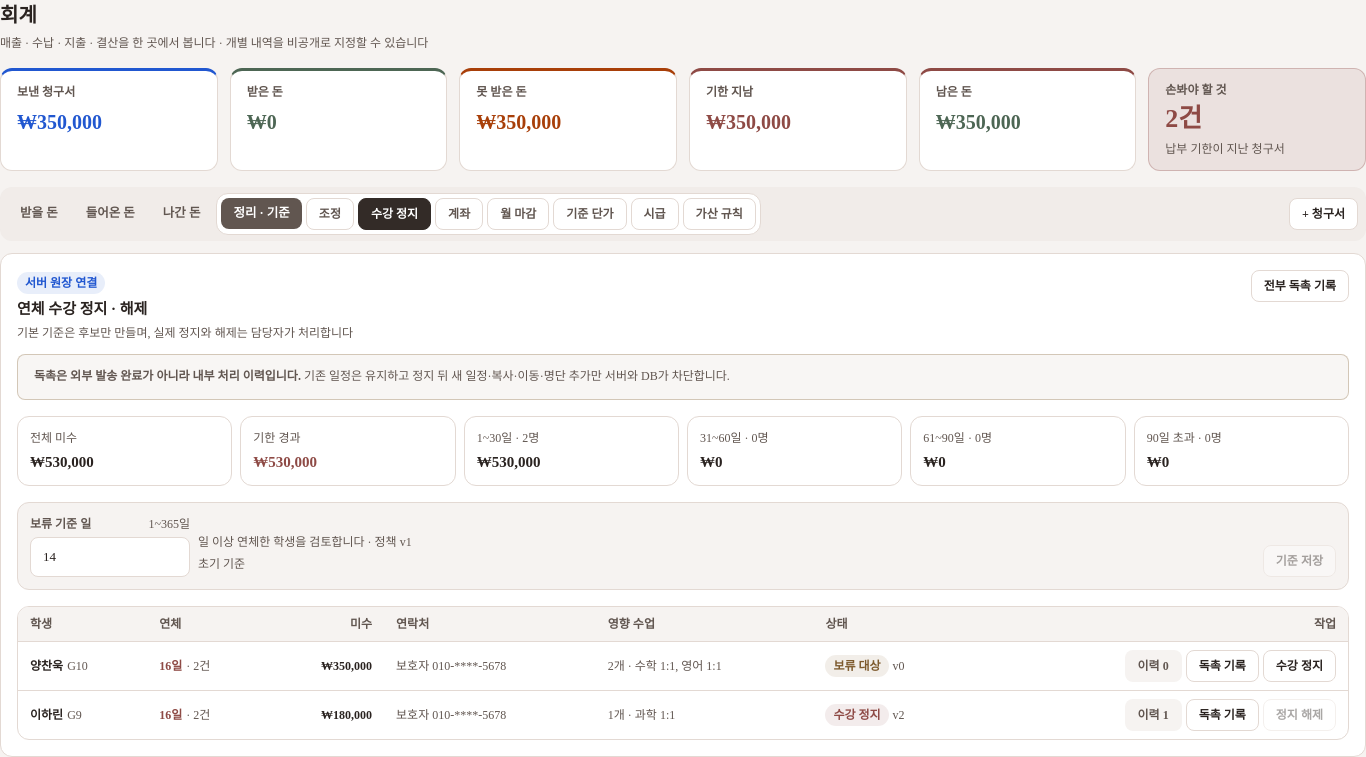
대표 기준 저장과 전부 독촉은 current version·멱등키를 사용하고 외부 발송 완료를 주장하지 않는다
Replace the text in the number field labelled "보류 기준 일" with "21" at (110, 557), box left=30, top=537, right=190, bottom=577
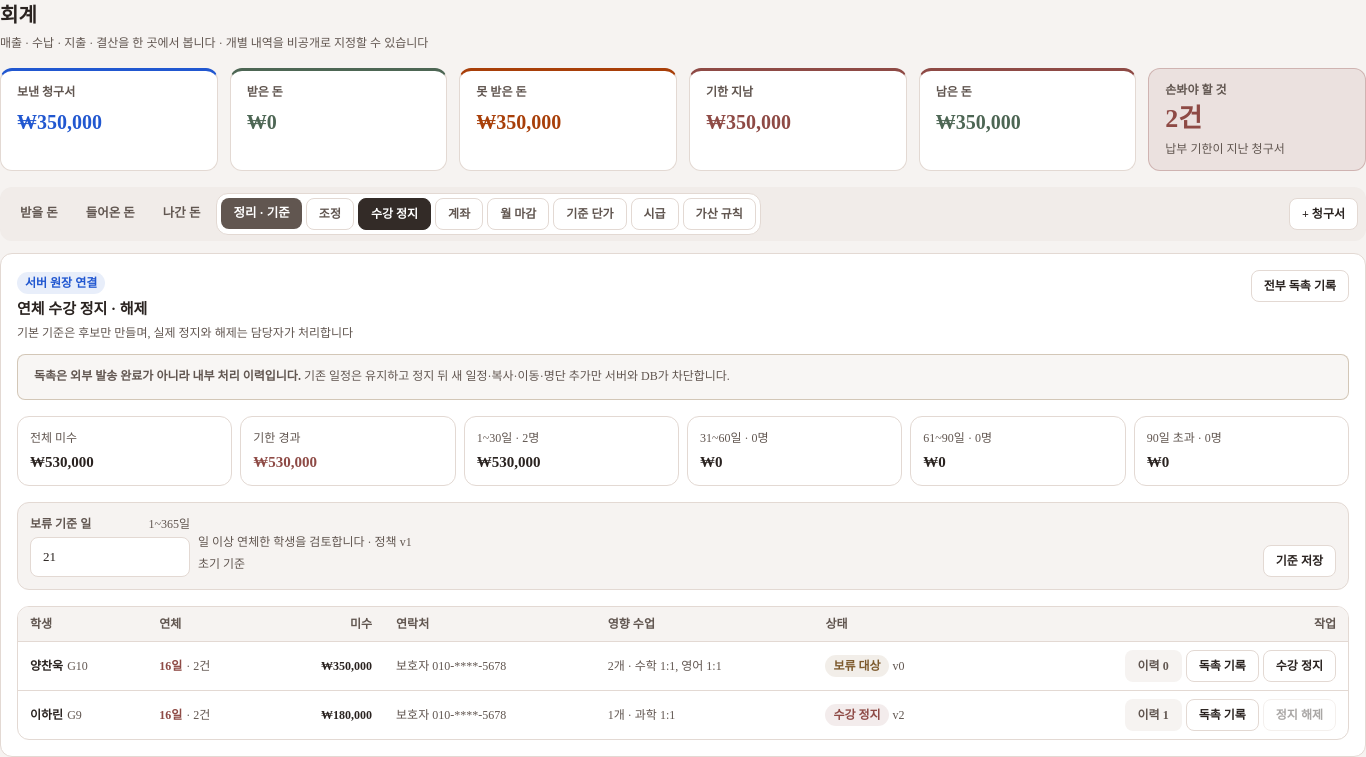
Click the button "기준 저장" at (1299, 561), box left=1263, top=545, right=1336, bottom=577
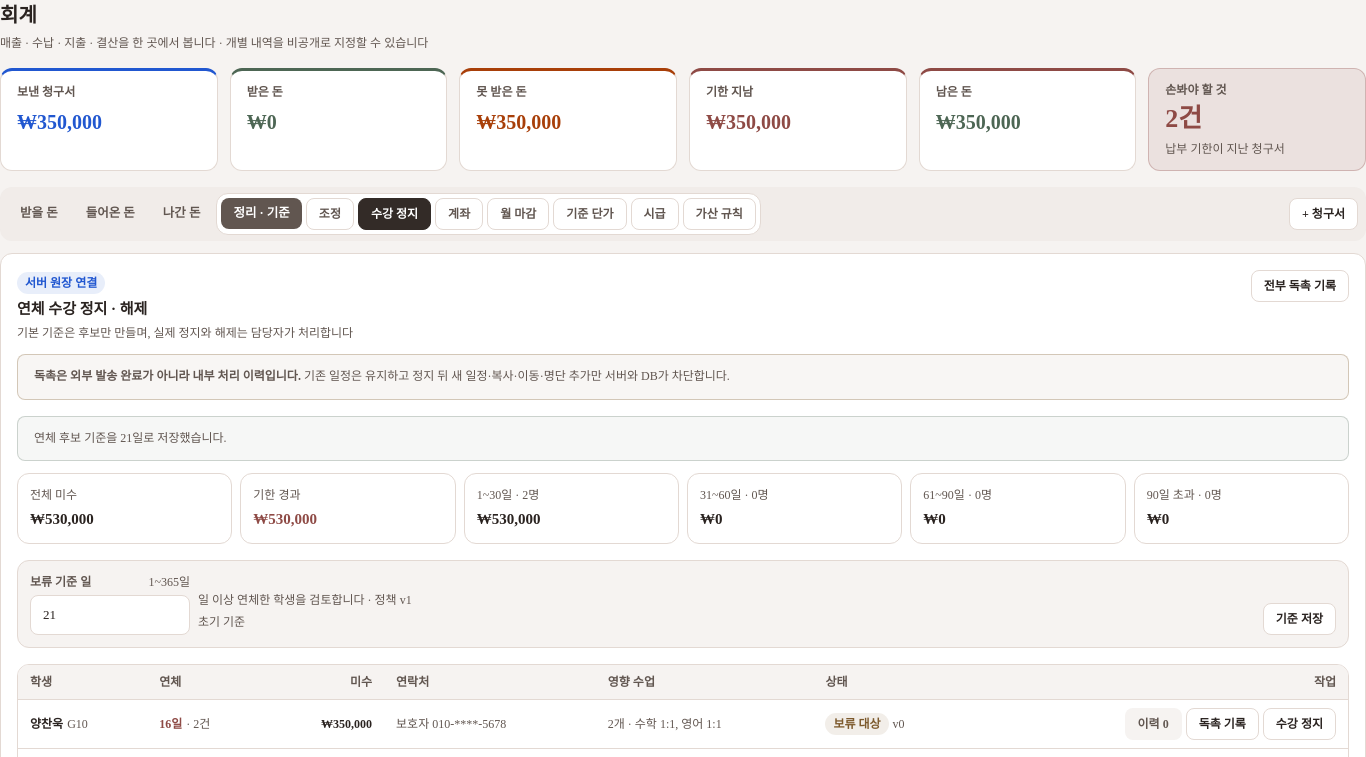
Click the button "전부 독촉 기록" at (1300, 286), box left=1251, top=270, right=1349, bottom=302
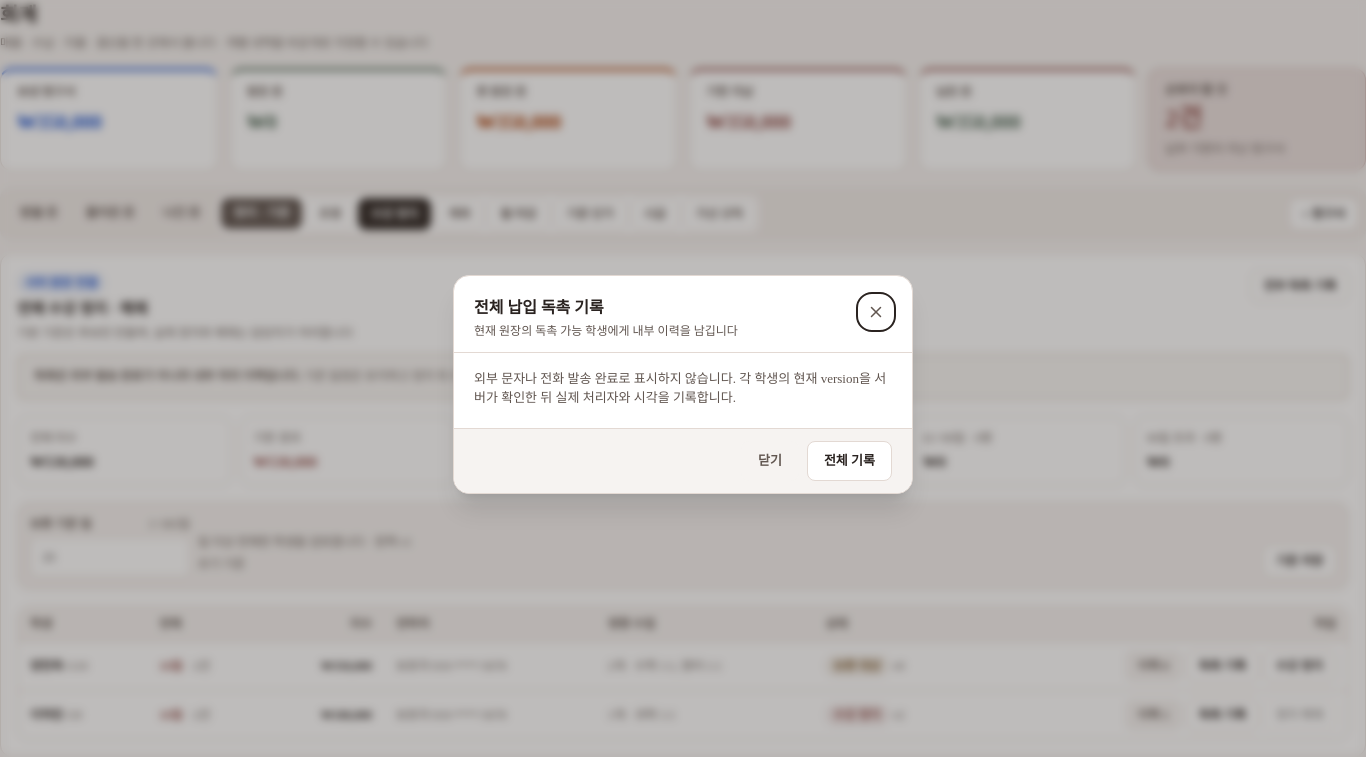
Now the text "외부 문자나 전화 발송 완료로 표시하지 않습니다" is shown, box left=474, top=370, right=886, bottom=405
Click the button "전체 기록" at (849, 460), box left=807, top=440, right=892, bottom=480
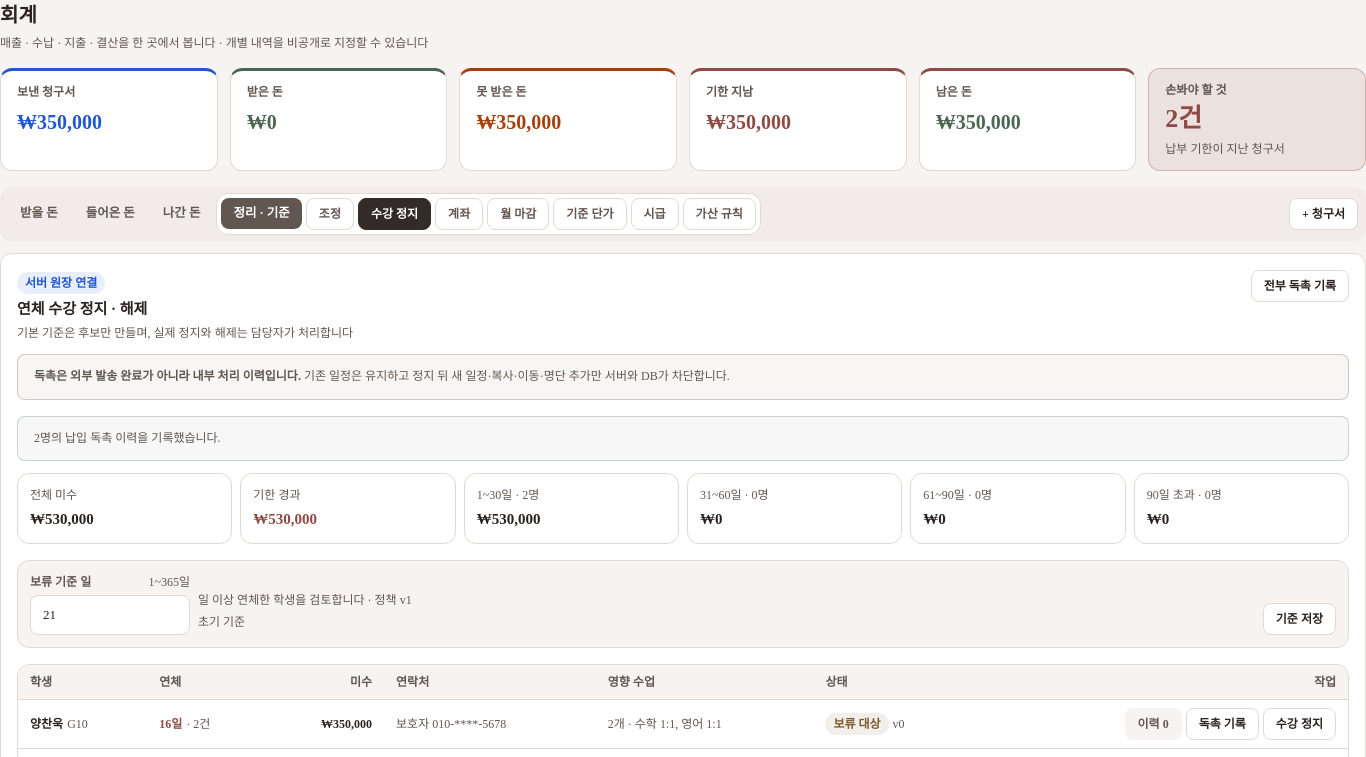
Now the text "2명의 납입 독촉 이력을 기록했습니다." is shown, box left=17, top=416, right=1349, bottom=461
